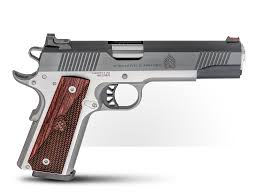gun: (6, 29, 251, 180)
